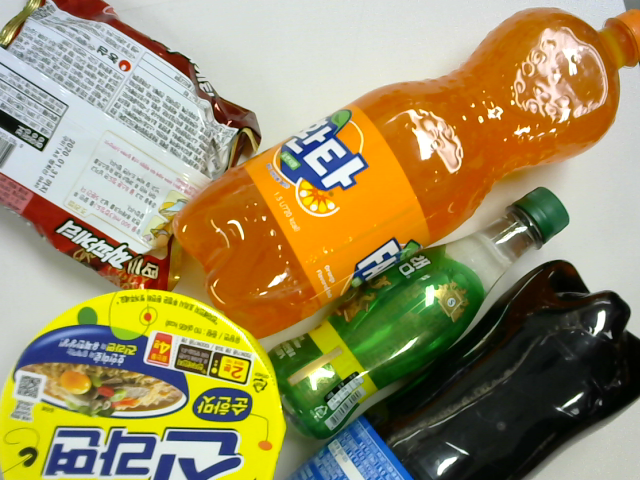Hwanta_Orange_1.5L: (169, 12, 640, 325)
Jinlamyeon_Mild_Taste_Large_Cup: (7, 291, 280, 480)
Pepsi_Cola_1.5L: (284, 288, 640, 472)
Seagram_Lemon_Carbonated_Water: (252, 178, 579, 441)
Sichuan_Chapaghetti: (1, 1, 253, 290)
